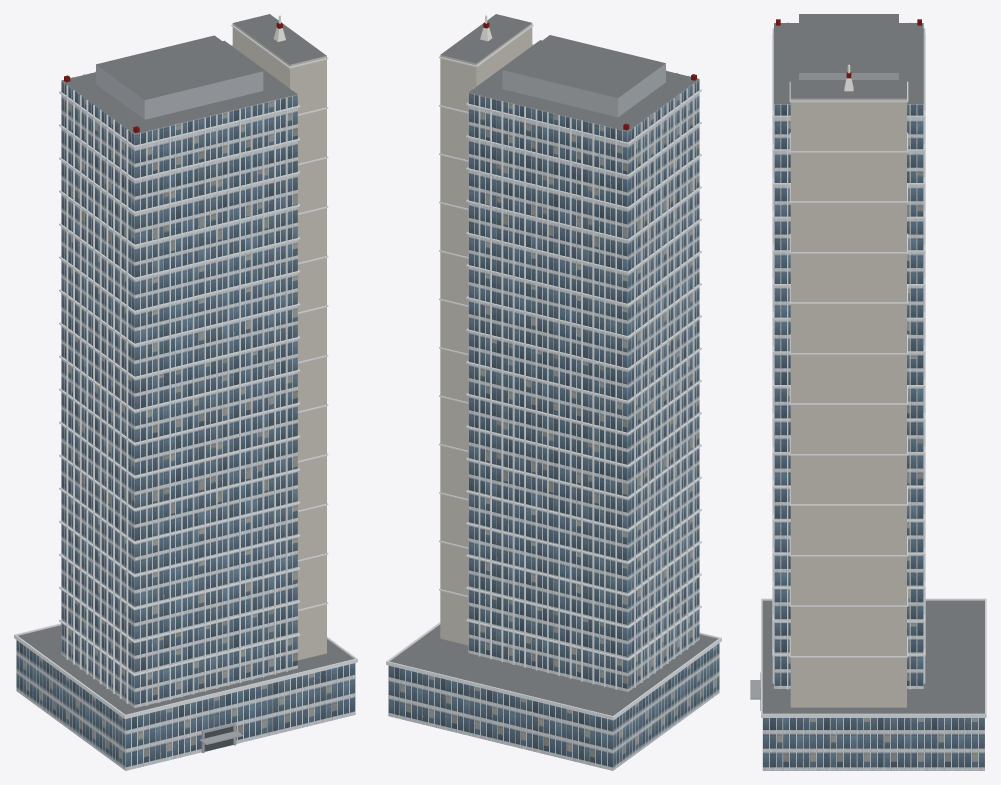
File: shiodome_media_tower.glb
The picture shows the model from 3 angles, left to right: view 1: azimuth 30°, elevation 25°; view 2: azimuth 150°, elevation 25°; view 3: azimuth 270°, elevation 25°; orthographic projection. The views are drawn at different scales.
Visible parts, largest first — view 1: shiodome_media_tower; view 2: shiodome_media_tower; view 3: shiodome_media_tower.
Part boxes in pixels (x1,y1,x2,y2): shiodome_media_tower: [14, 14, 357, 770]; shiodome_media_tower: [386, 14, 721, 770]; shiodome_media_tower: [750, 14, 986, 770].
Size of the model in its own units: 62.01 by 172 by 53.5.
2 materials, 2 textured.
